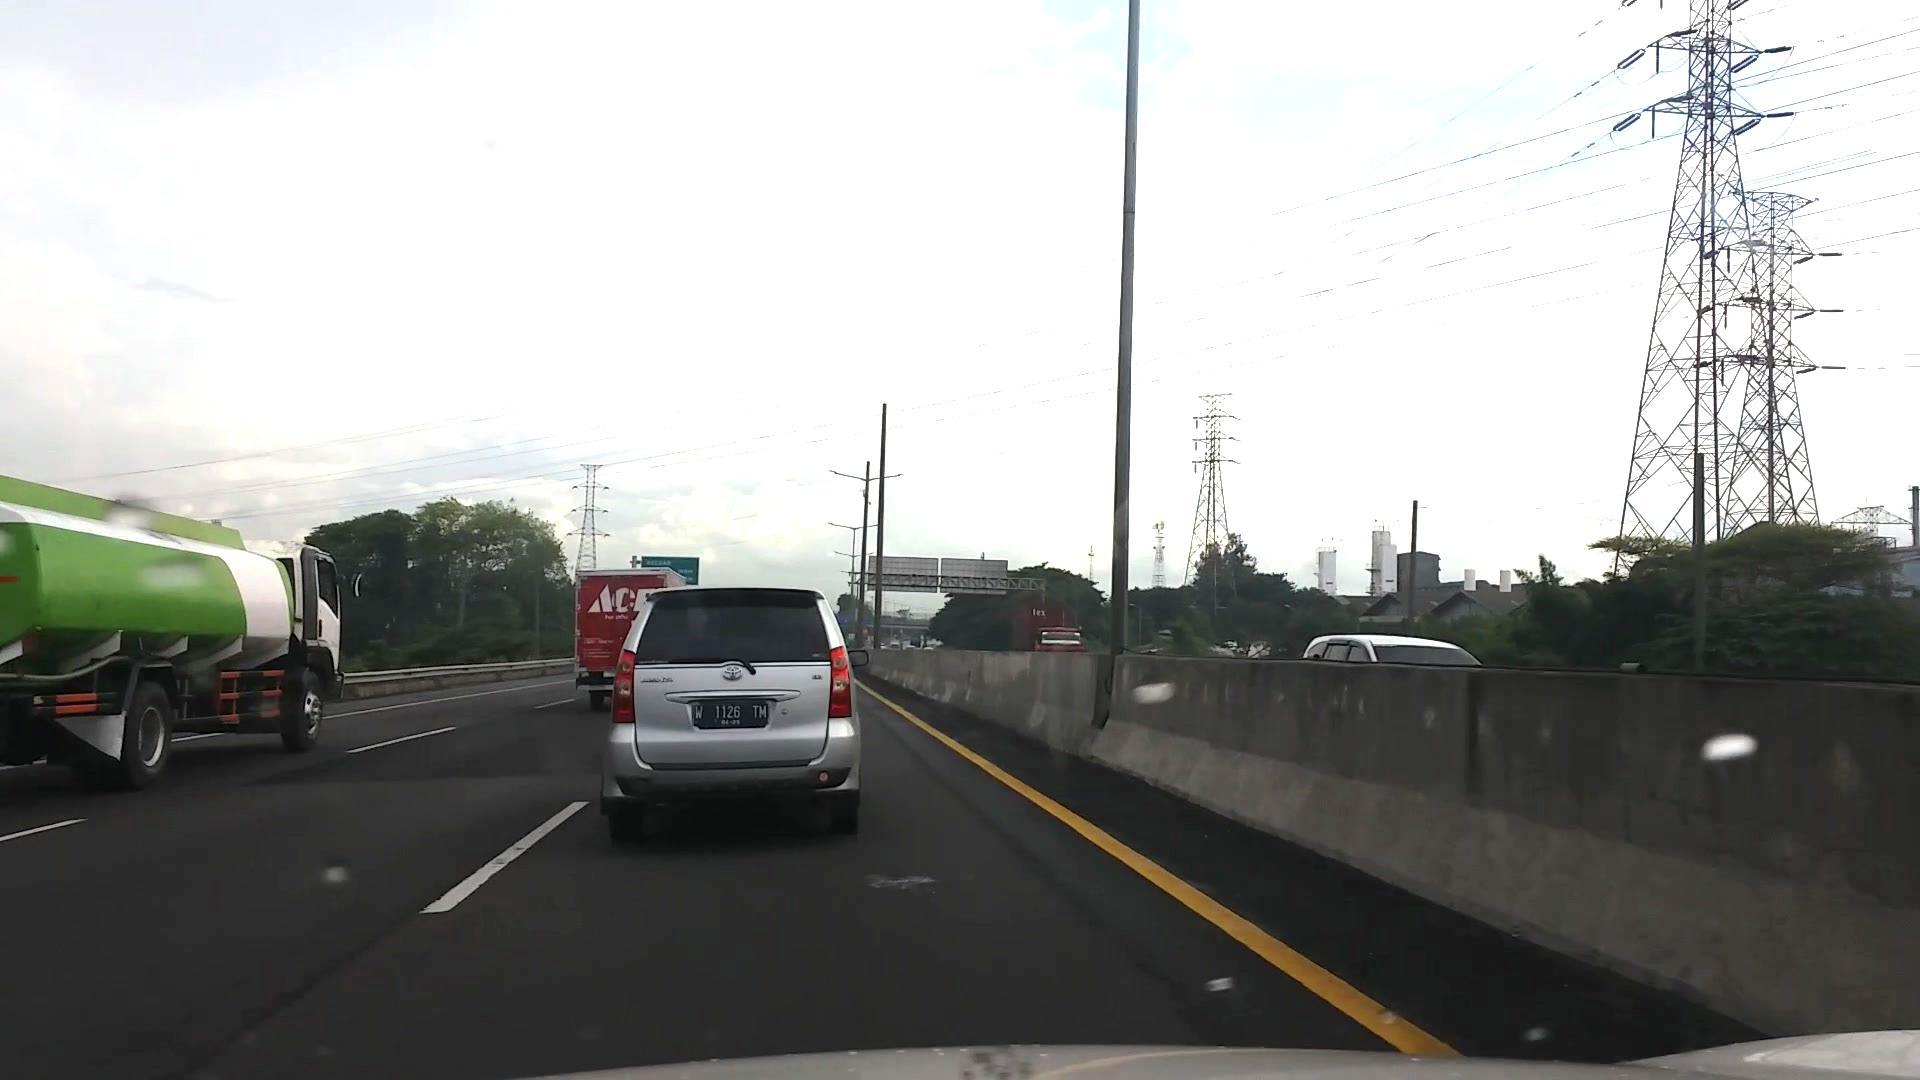plate_positive: (692, 702, 767, 728)
